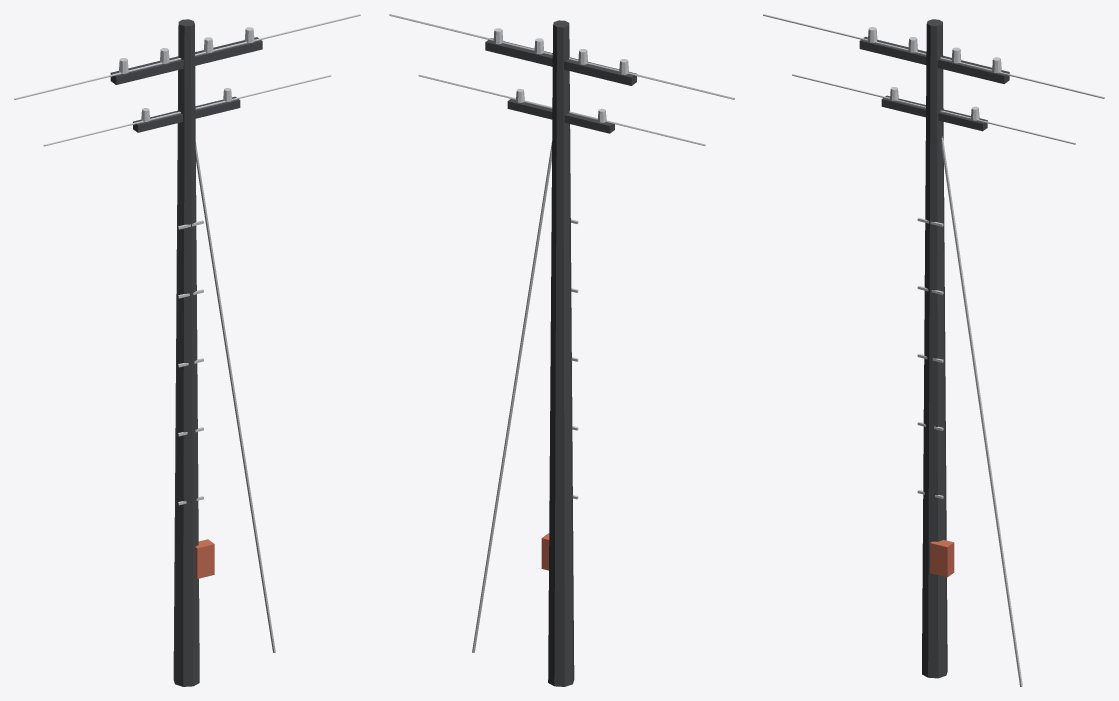
File: arable-fields-and-farm-machinery-telegraph-pole-84dd16b3__16894.glb
The picture shows the model from 3 angles, left to right: view 1: azimuth 30°, elevation 25°; view 2: azimuth 150°, elevation 25°; view 3: azimuth 330°, elevation 25°; orthographic projection.
Parts seen in each view (by area): view 1: telegraph-pole; view 2: telegraph-pole; view 3: telegraph-pole.
Part boxes in pixels (<box>): telegraph-pole: <box>14,14,360,686</box>; telegraph-pole: <box>389,14,734,686</box>; telegraph-pole: <box>763,14,1104,686</box>.
Bounding box in the file's own units: 4.72 × 8.6 × 0.3401.
